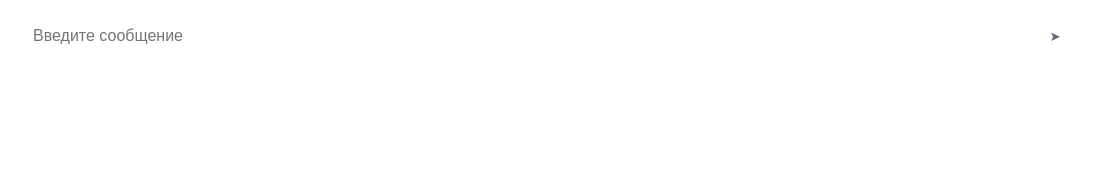
Test: SendMessageForm › keeps draft and shows error on failure
In the field with placeholder "Введите сообщение": (516, 36) [17,12,1015,60], type "Черновик"
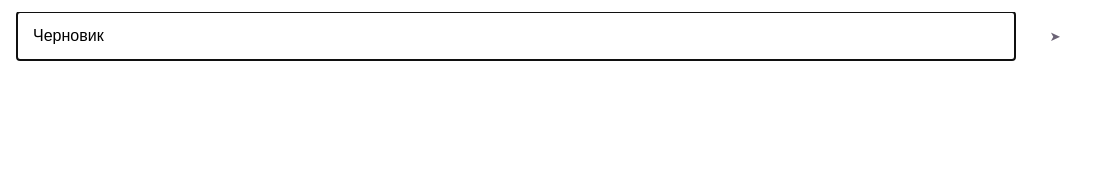
Click the button: (1055, 36) [1031,12,1079,60]
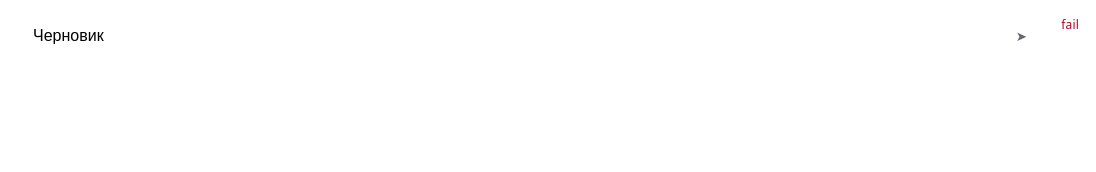
Expected: the text "fail" is shown, [1061,16,1079,33]
